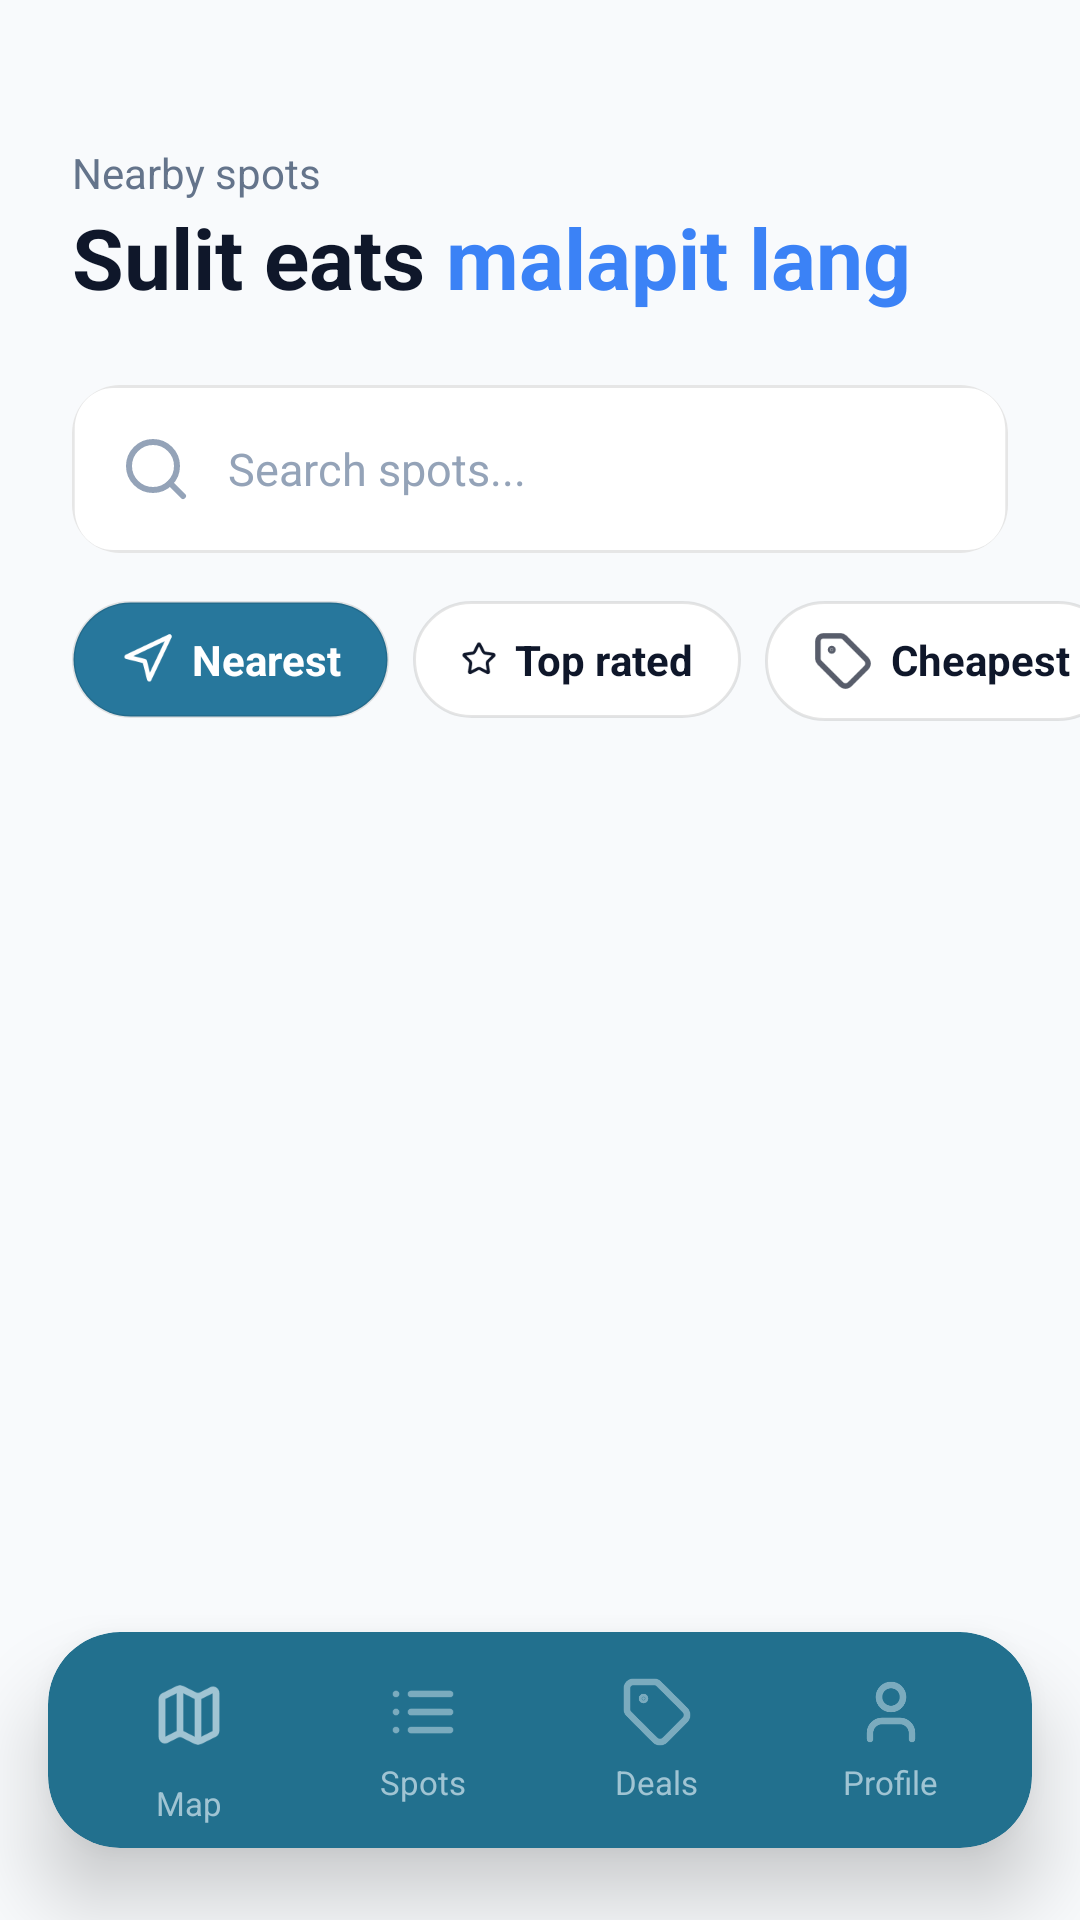

Screen size 1080px x 1920px. Icon name, then its center in pixels as point (x, y):
list: point (423, 1712)
